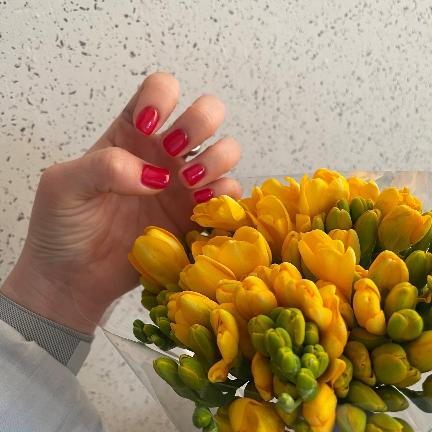Nail: (163, 129, 189, 157), (141, 165, 171, 189), (135, 107, 159, 135), (182, 164, 206, 186), (193, 189, 214, 204)
